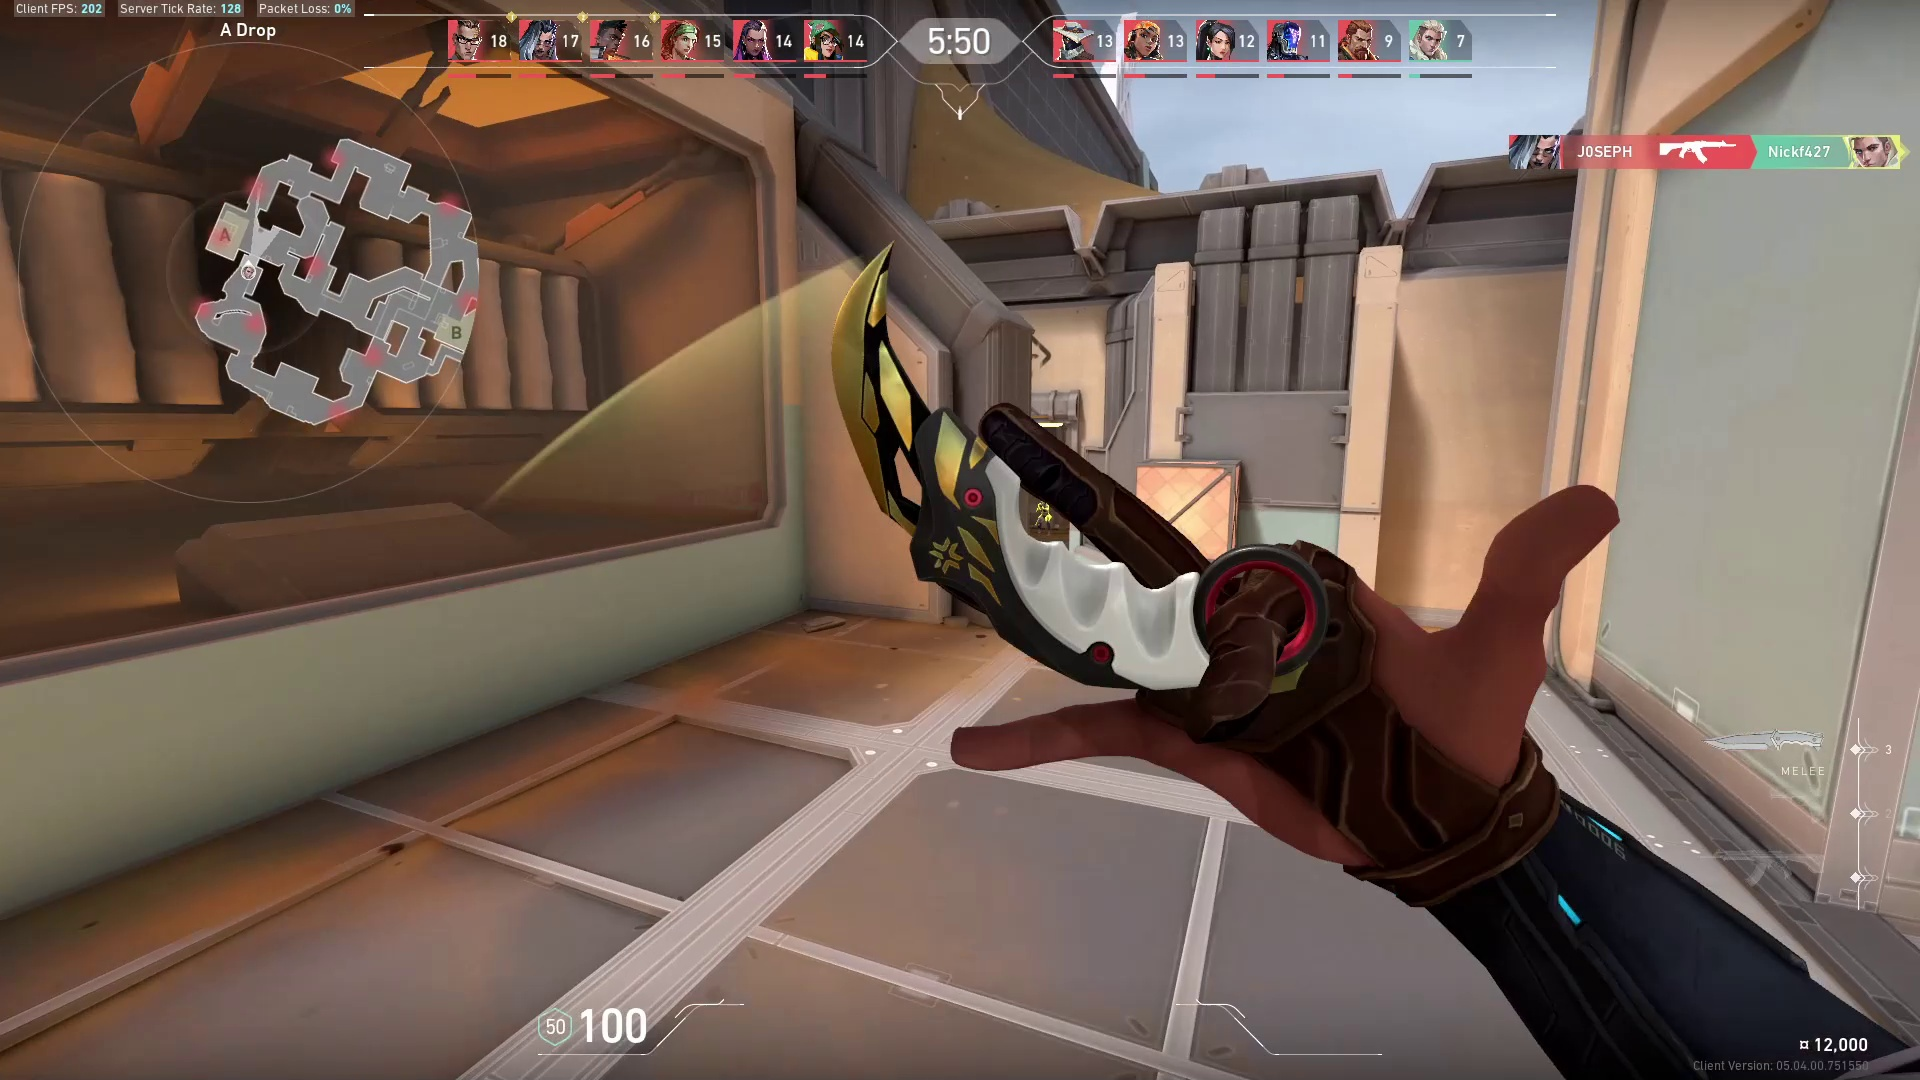enemy_body: (1033, 495, 1058, 535)
